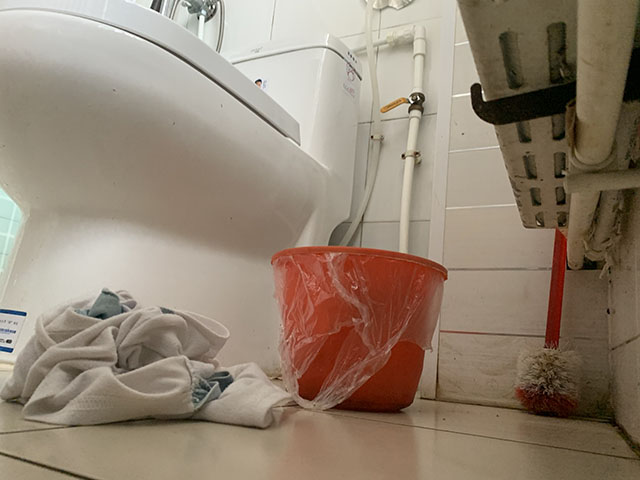closestool: (1, 1, 365, 385)
trashcan: (269, 244, 449, 413)
